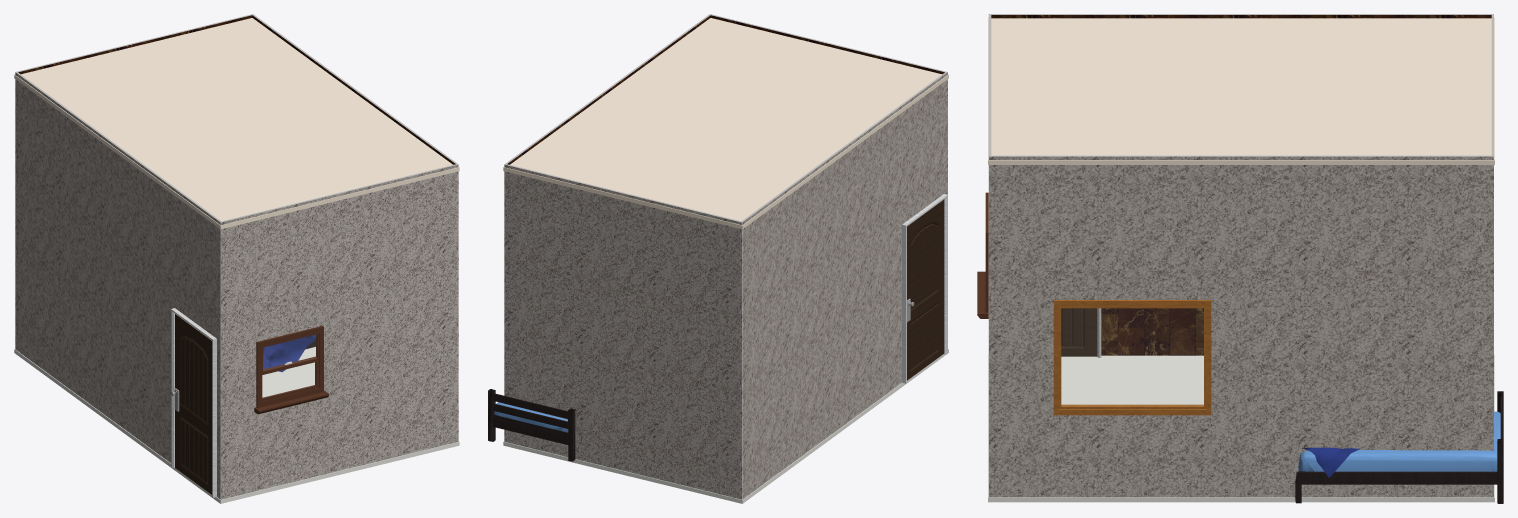
The model's file is ProcTHOR-Train-2.glb.
The picture shows the model from 3 angles, left to right: view 1: azimuth 30°, elevation 25°; view 2: azimuth 150°, elevation 25°; view 3: azimuth 270°, elevation 25°; orthographic projection. The views are drawn at different scales.
Visible parts, largest first — view 1: WallInside#wall|exterior|0.00|4.86|3.24|4.86, WallInside#wall|exterior|3.24|0.00|3.24|4.86, Ceiling#room|2|c, Doorway_9, Floor#room|2|f, Window_Hung_36x32, Bed_20, WallInside#wall|2|0.00|0.00|3.24|0.00, WallInside#wall|2|0.00|0.00|0.00|4.86; view 2: WallInside#wall|exterior|0.00|0.00|3.24|0.00, WallInside#wall|exterior|3.24|0.00|3.24|4.86, Ceiling#room|2|c, Doorway_9, Bed_20, Floor#room|2|f, WallInside#wall|2|0.00|4.86|3.24|4.86, WallInside#wall|2|0.00|0.00|0.00|4.86; view 3: WallInside#wall|exterior|0.00|0.00|0.00|4.86, Ceiling#room|2|c, Floor#room|2|f, Bed_20, WallInside#wall|2|3.24|0.00|3.24|4.86, Window_Fixed_60x48, Doorway_9, WallInside#wall|2|0.00|0.00|0.00|4.86, Window_Hung_36x32, WallInside#wall|exterior|0.00|4.86|3.24|4.86.
Part boxes in pixels (x1=…): WallInside#wall|exterior|0.00|4.86|3.24|4.86: x1=221, y1=164, x2=458, y2=499; WallInside#wall|exterior|3.24|0.00|3.24|4.86: x1=15, y1=72, x2=220, y2=499; Ceiling#room|2|c: x1=14, y1=18, x2=459, y2=229; Doorway_9: x1=171, y1=308, x2=216, y2=497; Floor#room|2|f: x1=14, y1=347, x2=459, y2=503; Window_Hung_36x32: x1=254, y1=326, x2=329, y2=414; Bed_20: x1=263, y1=334, x2=315, y2=372; WallInside#wall|2|0.00|0.00|3.24|0.00: x1=16, y1=14, x2=253, y2=74; WallInside#wall|2|0.00|0.00|0.00|4.86: x1=252, y1=15, x2=457, y2=164; WallInside#wall|exterior|0.00|0.00|3.24|0.00: x1=504, y1=164, x2=742, y2=499; WallInside#wall|exterior|3.24|0.00|3.24|4.86: x1=742, y1=72, x2=947, y2=499; Ceiling#room|2|c: x1=503, y1=18, x2=948, y2=229; Doorway_9: x1=902, y1=194, x2=947, y2=383; Bed_20: x1=488, y1=389, x2=575, y2=461; Floor#room|2|f: x1=503, y1=349, x2=948, y2=503; WallInside#wall|2|0.00|4.86|3.24|4.86: x1=709, y1=14, x2=946, y2=74; WallInside#wall|2|0.00|0.00|0.00|4.86: x1=506, y1=14, x2=711, y2=164; WallInside#wall|exterior|0.00|0.00|0.00|4.86: x1=989, y1=156, x2=1493, y2=497; Ceiling#room|2|c: x1=988, y1=17, x2=1494, y2=164; Floor#room|2|f: x1=988, y1=354, x2=1494, y2=502; Bed_20: x1=1295, y1=391, x2=1503, y2=503; WallInside#wall|2|3.24|0.00|3.24|4.86: x1=989, y1=14, x2=1493, y2=355; Window_Fixed_60x48: x1=1053, y1=300, x2=1211, y2=415; Doorway_9: x1=1061, y1=308, x2=1101, y2=357; WallInside#wall|2|0.00|0.00|0.00|4.86: x1=989, y1=155, x2=1493, y2=156; Window_Hung_36x32: x1=977, y1=192, x2=988, y2=318; WallInside#wall|exterior|0.00|4.86|3.24|4.86: x1=988, y1=14, x2=989, y2=496.
Bounding box in the file's own units: 3.54 × 3.68 × 5.09.
54 materials, 31 textured.
